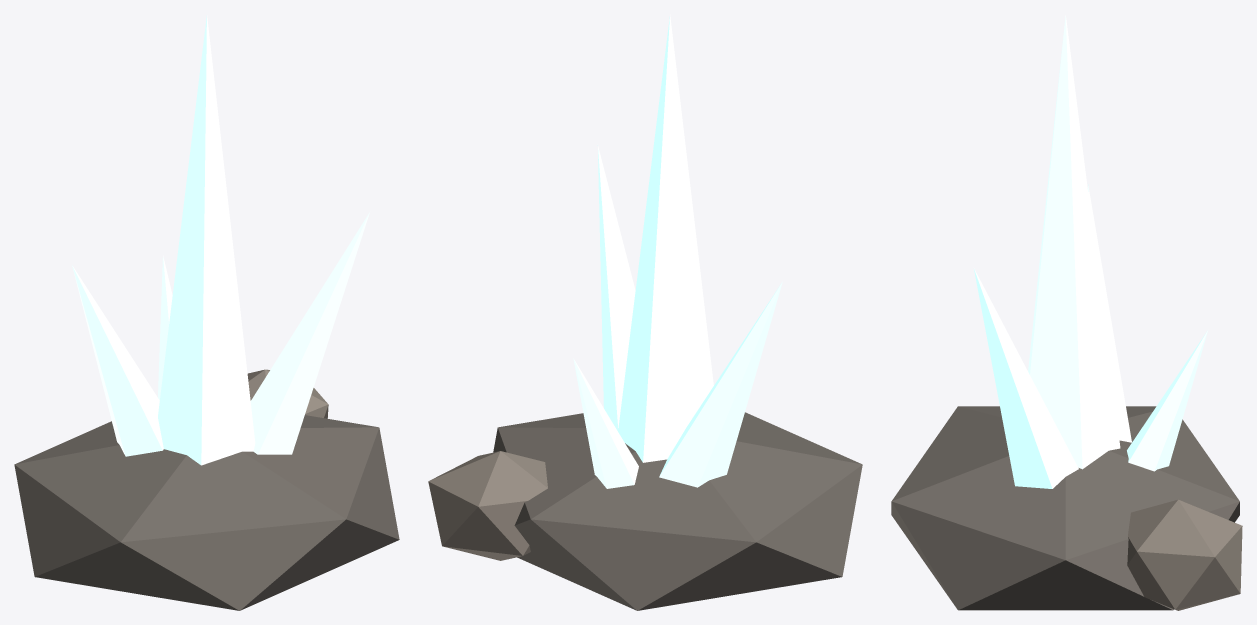
The model's file is aether_node-B6epzLtX.glb.
3 renders of one model, left to right at view 1: azimuth 30°, elevation 25°; view 2: azimuth 150°, elevation 25°; view 3: azimuth 270°, elevation 25°, orthographic.
Parts seen in each view (by area): view 1: base; view 2: base; view 3: base.
Part boxes in pixels (bbox=[...]): base: bbox=[14, 15, 399, 610]; base: bbox=[428, 14, 862, 610]; base: bbox=[891, 15, 1242, 610].
Size of the model in its own units: 0.7422 by 1.15 by 0.6435.
